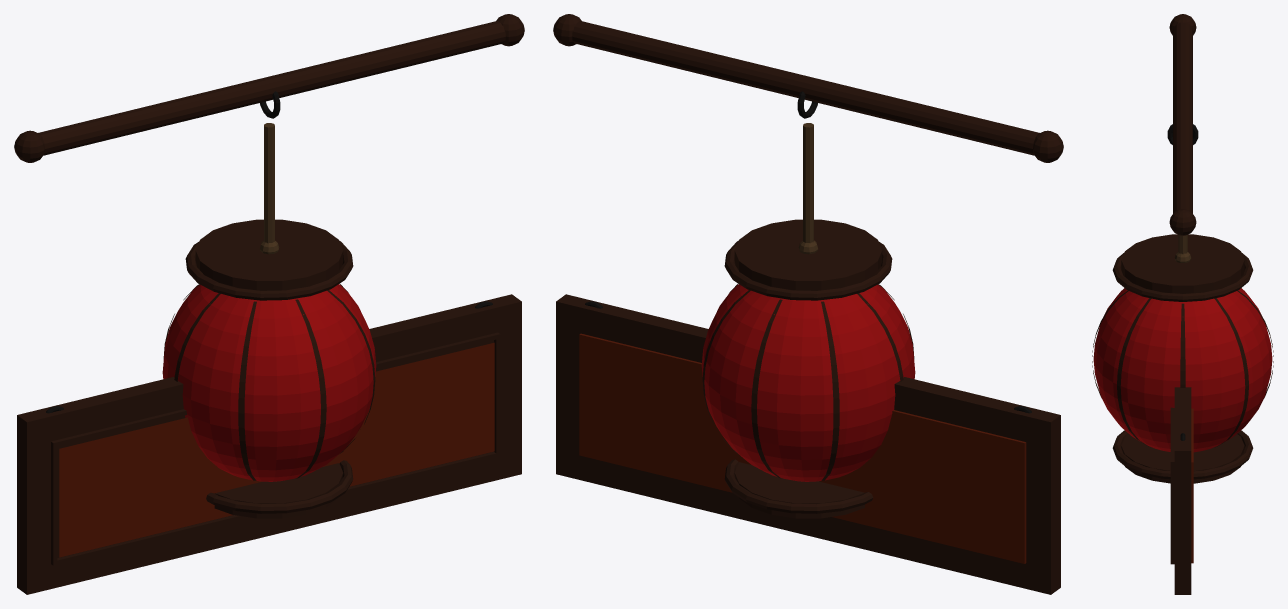
Rendered from lib_lib_signage_kit.glb.
The picture shows the model from 3 angles, left to right: view 1: azimuth 30°, elevation 25°; view 2: azimuth 150°, elevation 25°; view 3: azimuth 270°, elevation 25°; orthographic projection. The views are drawn at different scales.
Visible parts, largest first — view 1: lib_lantern_hang, sign_face; view 2: lib_lantern_hang, lib_sign_board; view 3: lib_lantern_hang, lib_sign_board.
Part boxes in pixels (bbox=[...]): lib_lantern_hang: bbox=[14, 14, 524, 594]; sign_face: bbox=[59, 342, 494, 557]; lib_lantern_hang: bbox=[553, 14, 1063, 594]; lib_sign_board: bbox=[579, 333, 1026, 563]; lib_lantern_hang: bbox=[1092, 14, 1273, 594]; lib_sign_board: bbox=[1191, 408, 1193, 563].
Bounding box in the file's own units: 1.23 × 1.06 × 0.4565.
